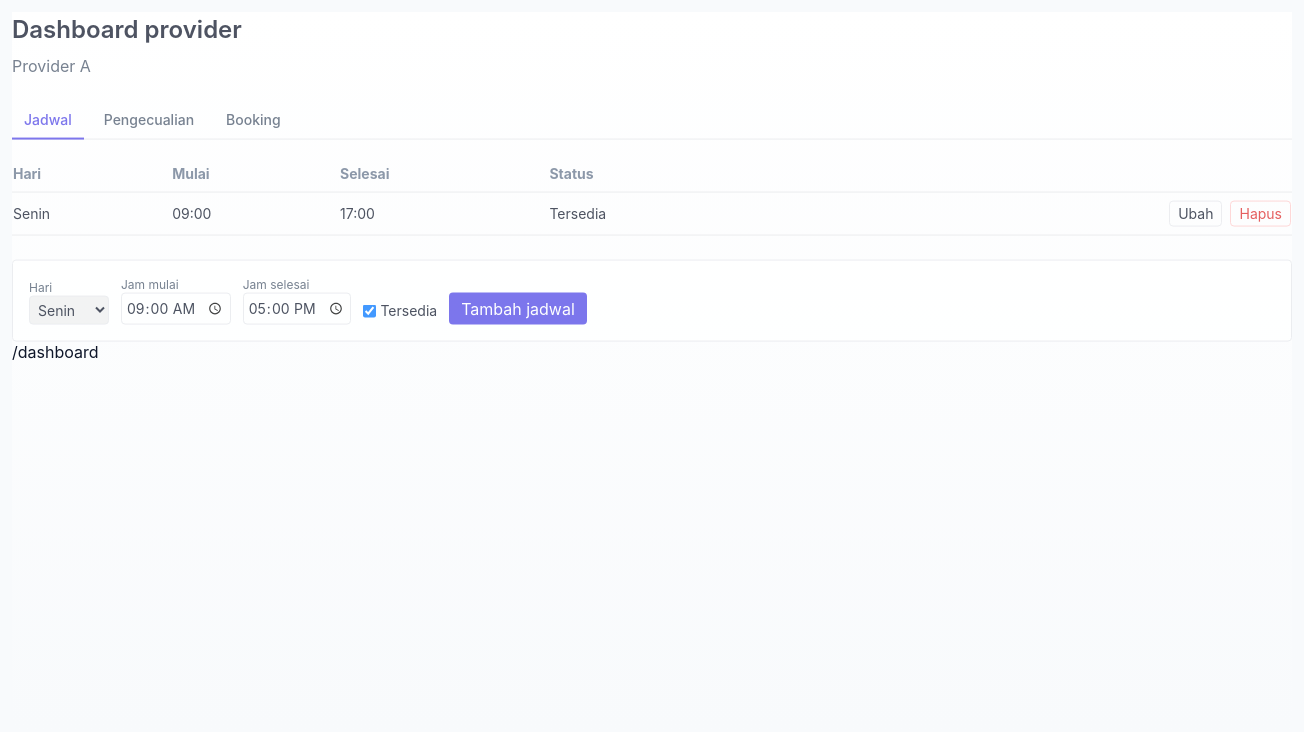
Test case: ProviderDashboardPage › creates a full-day exception in the selected range
The image size is (1304, 732).
Click the tab "Pengecualian": (149, 121) [92,102,206,140]
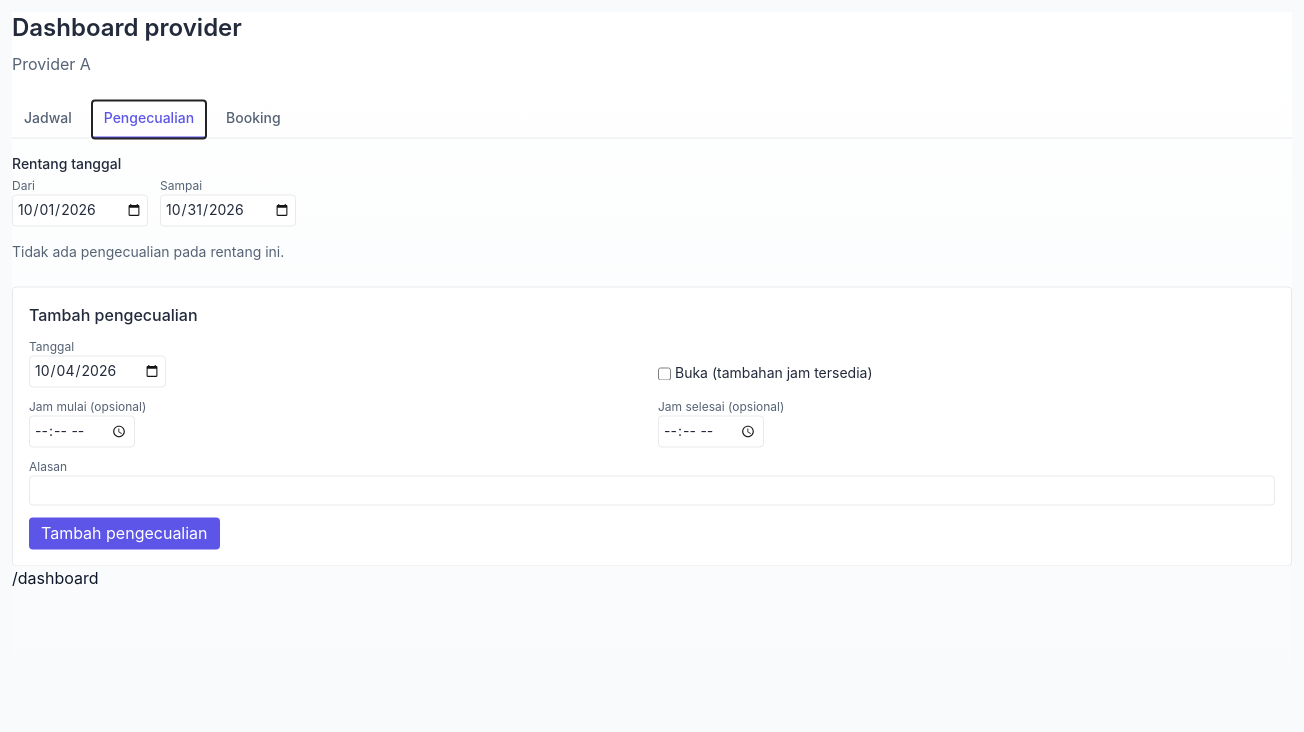
In the date field labelled "Dari": (80, 210) [12,194,148,226], type "2025-07-01"
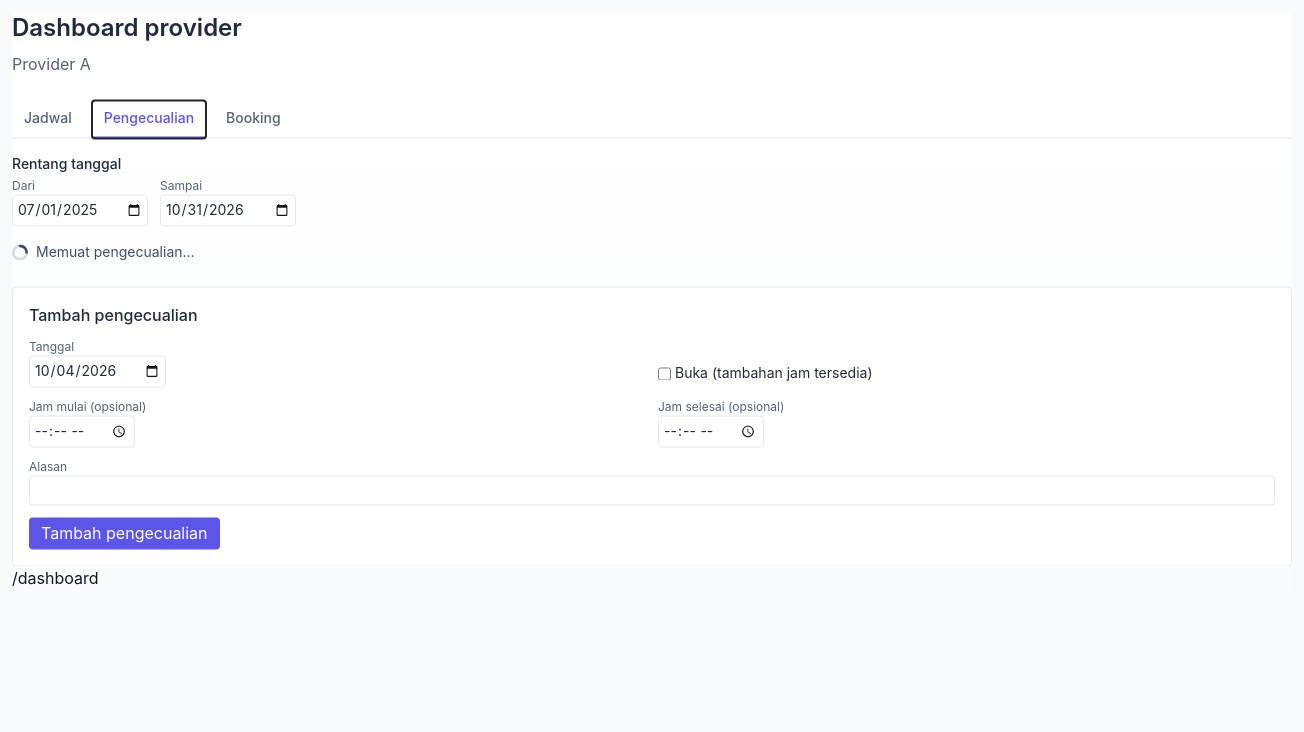
In the date field labelled "Sampai": (228, 210) [160,194,296,226], type "2025-07-31"
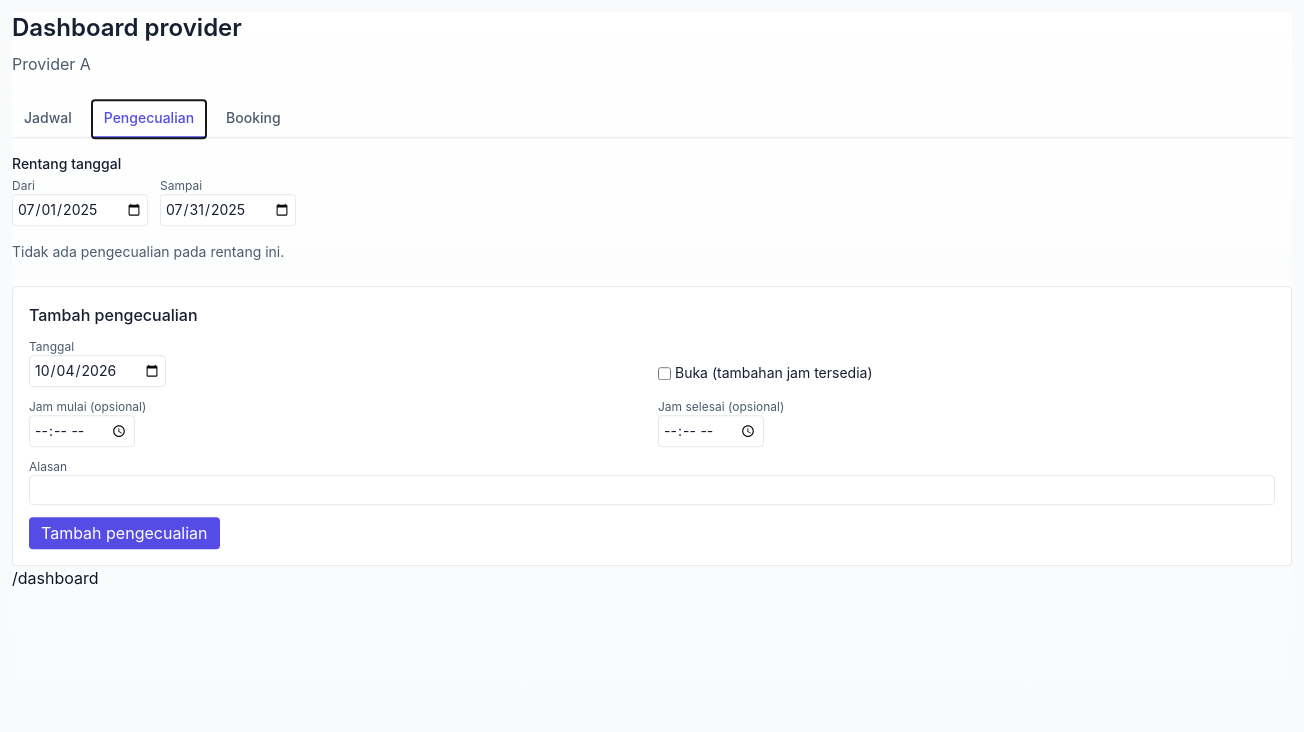
Result: the text "Tidak ada pengecualian pada rentang ini." is shown at [12,243,284,260]
In the date field labelled "Tanggal": (98, 371) [29,355,166,387], type "2025-07-17"
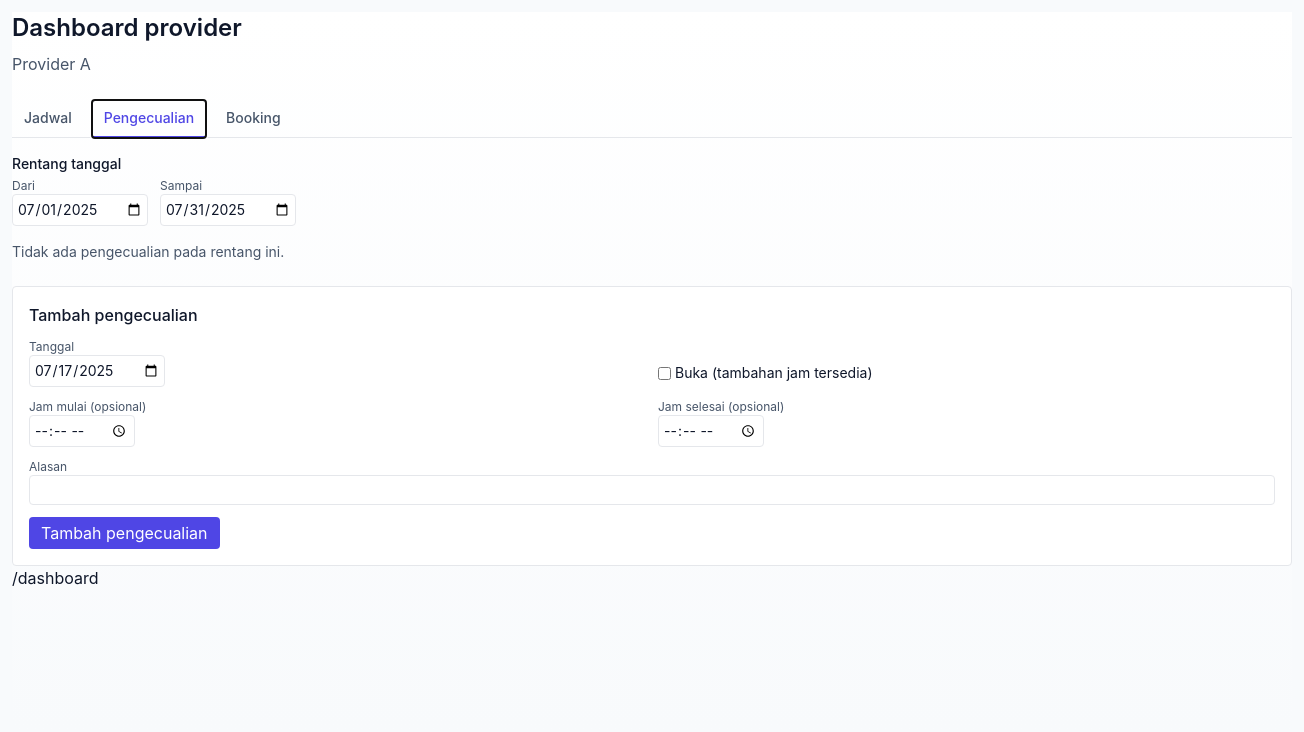
In the field labelled "Alasan": (652, 490) [29,475,1275,505], type "Libur"
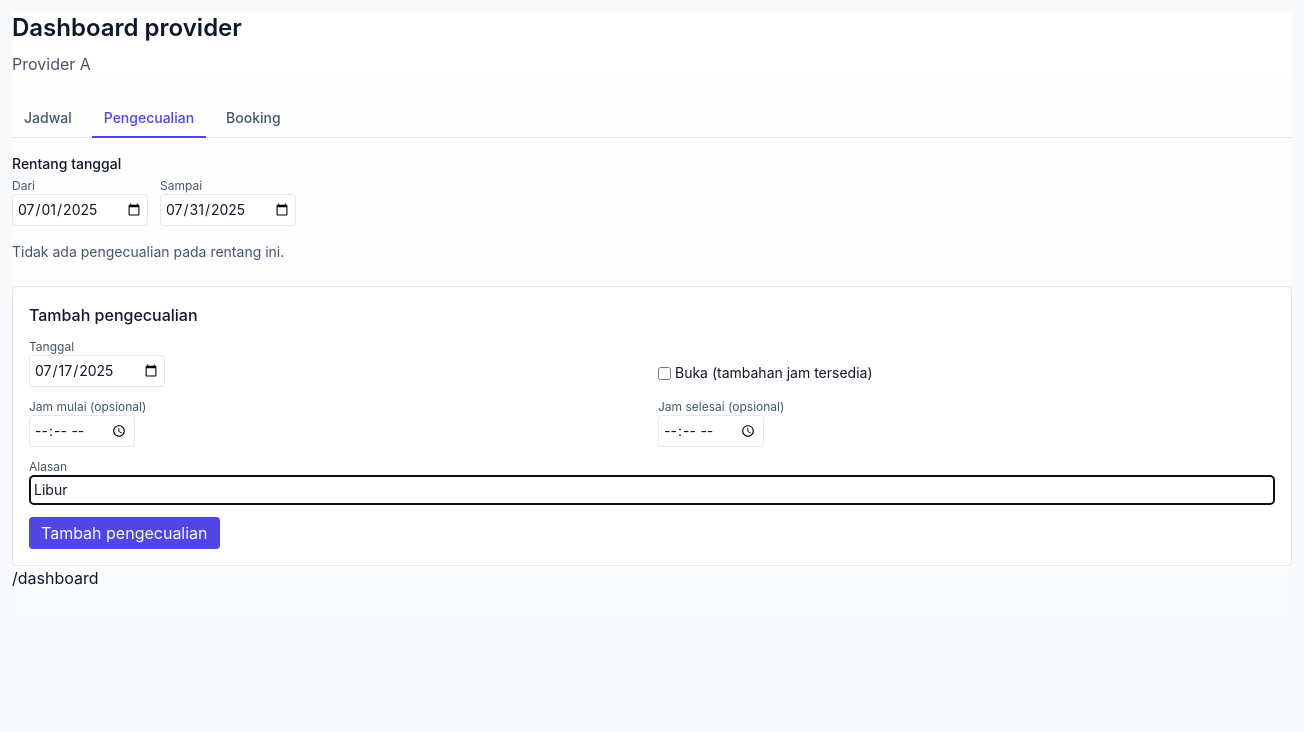
Click the button "Tambah pengecualian": (124, 533) [29,517,220,549]
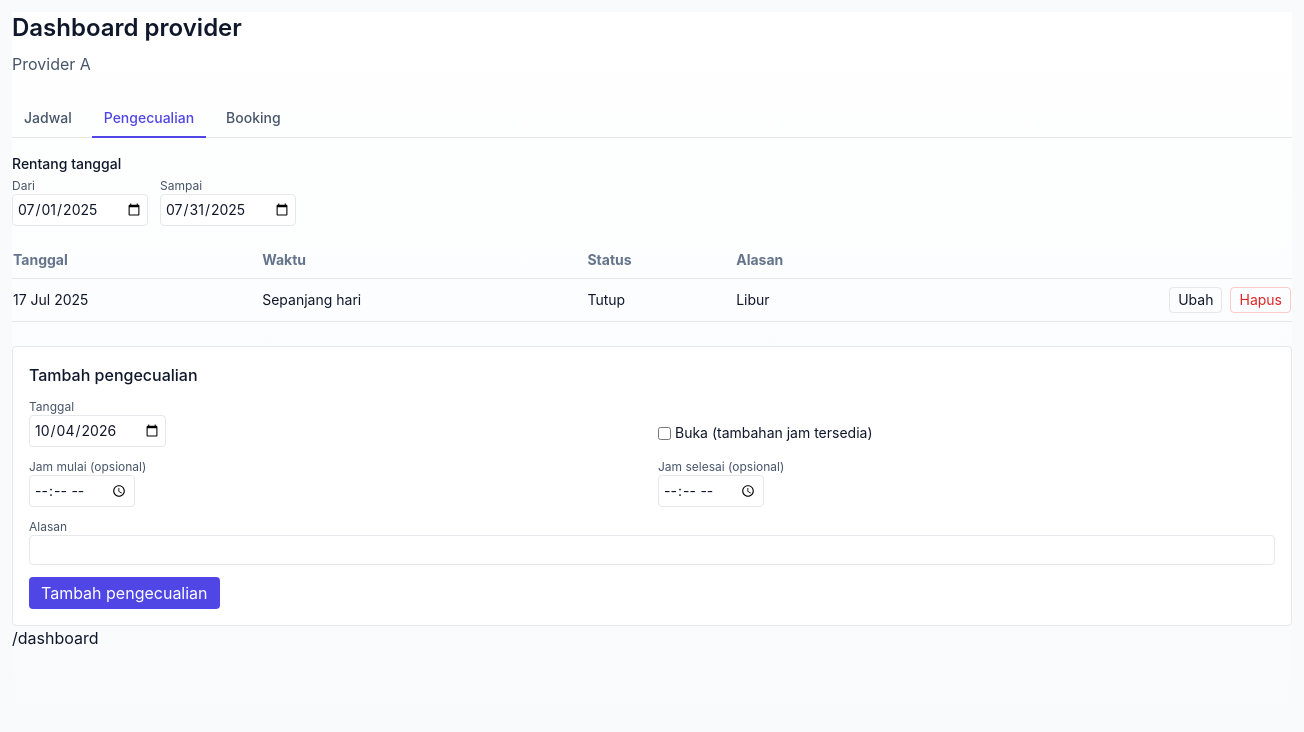
Result: the text "Sepanjang hari" is shown at [261,278,586,322]
Result: the text "Libur" is shown at [735,278,893,322]
